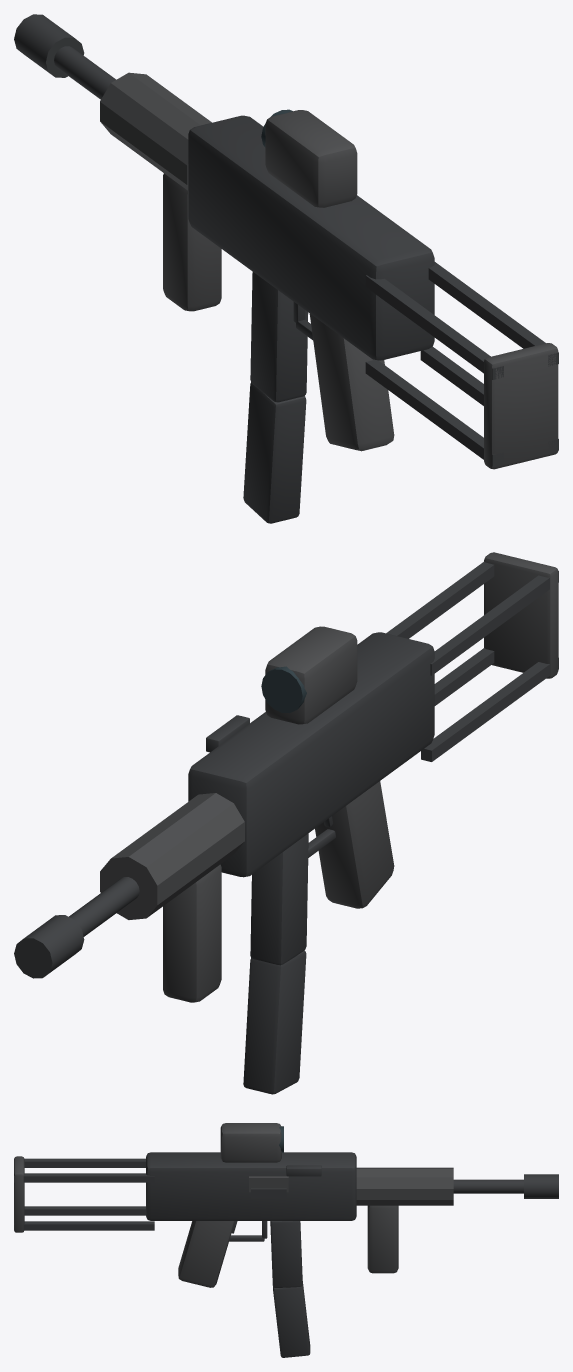
File: gun.glb
The picture shows the model from 3 angles, top to bottom: view 1: azimuth 30°, elevation 25°; view 2: azimuth 150°, elevation 25°; view 3: azimuth 270°, elevation 25°; orthographic projection. The views are drawn at different scales.
Visible parts, largest first — view 1: smg; view 2: smg; view 3: smg.
Boxes of the visible parts, left/top/right/bottom form: smg: left=14, top=14, right=558, bottom=523; smg: left=14, top=552, right=558, bottom=1094; smg: left=14, top=1123, right=558, bottom=1357.
Size of the model in its own units: 0.056 by 0.2857 by 0.62.
